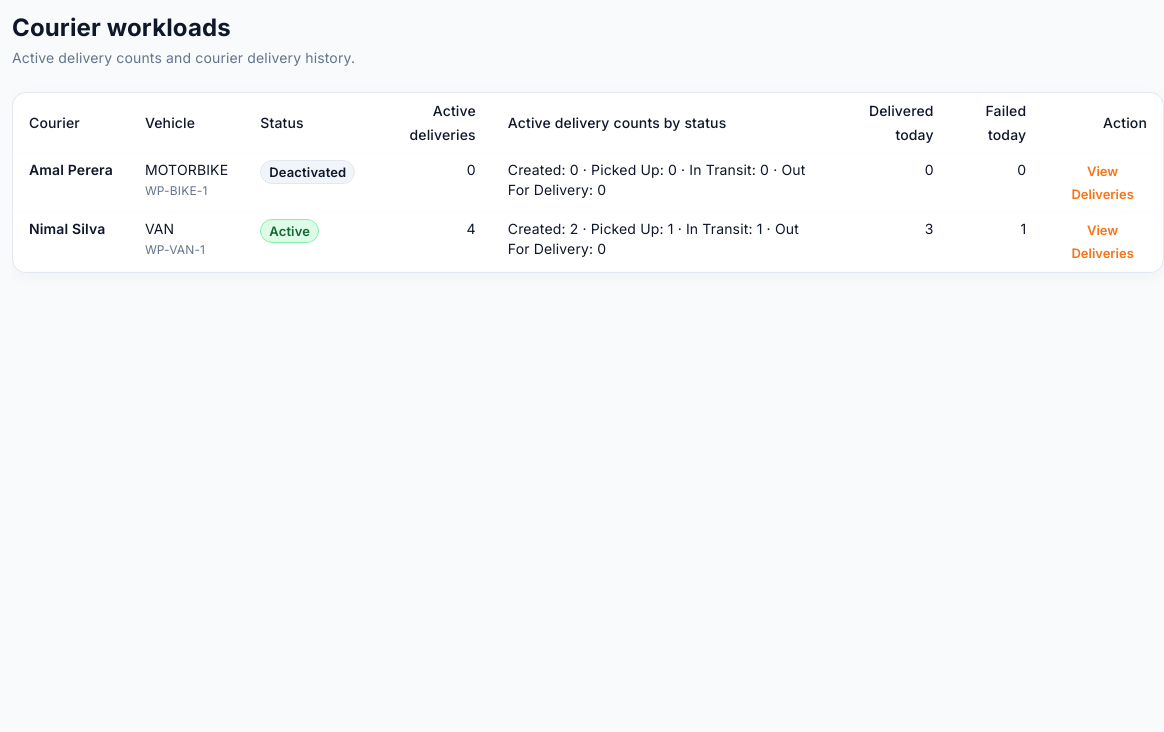
TST-040 Member #7 courier workloads › shows loading, empty, and retryable errors for courier deliveries
This screenshot has width=1164, height=732.
Click the button with aria-label "View deliveries for Nimal Silva": (1103, 242) [1058,219,1147,265]
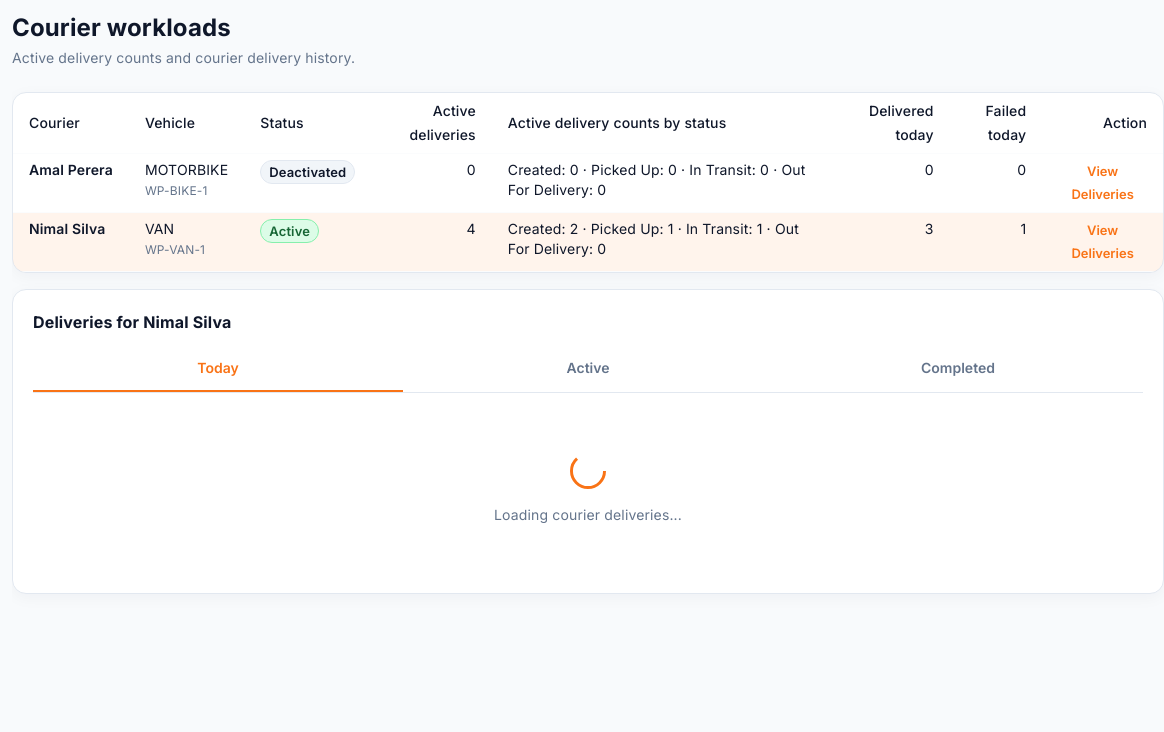
Check: the text "Loading courier deliveries..." is shown, box [494,505,682,525]
